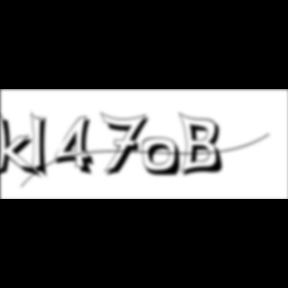4: (54, 115, 101, 179)
7: (100, 111, 154, 179)
B: (179, 111, 229, 179)
I: (31, 110, 55, 182)
k: (0, 108, 44, 181)
o: (142, 137, 184, 179)
